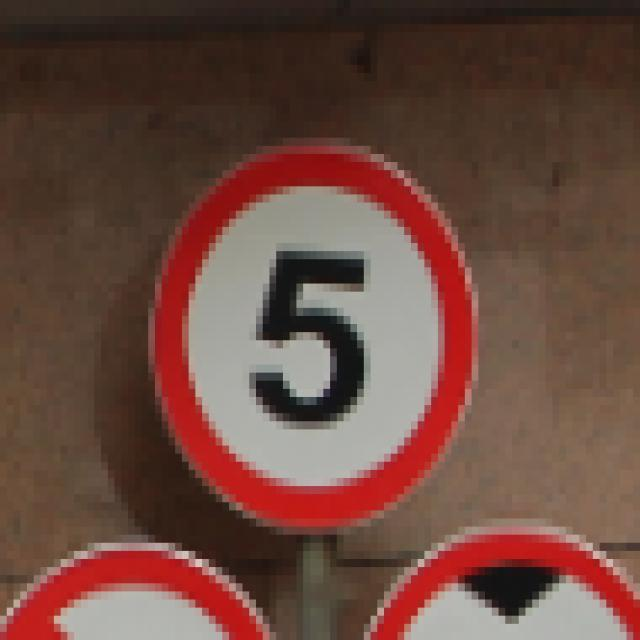Speed: (137, 116, 492, 553)
